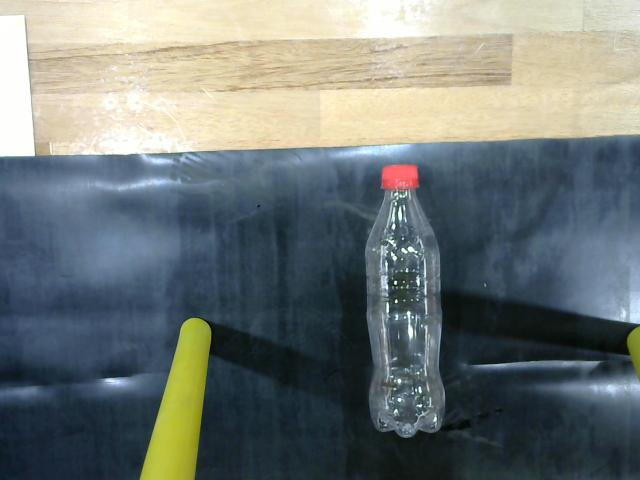bottle: (360, 156, 453, 444)
